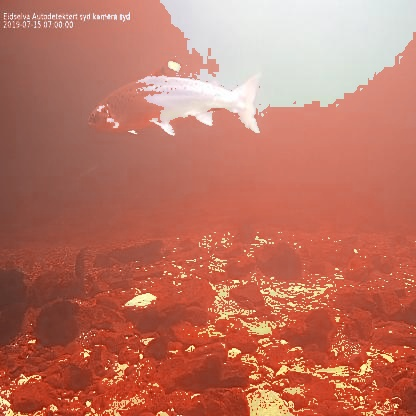salmon: (84, 61, 264, 140)
